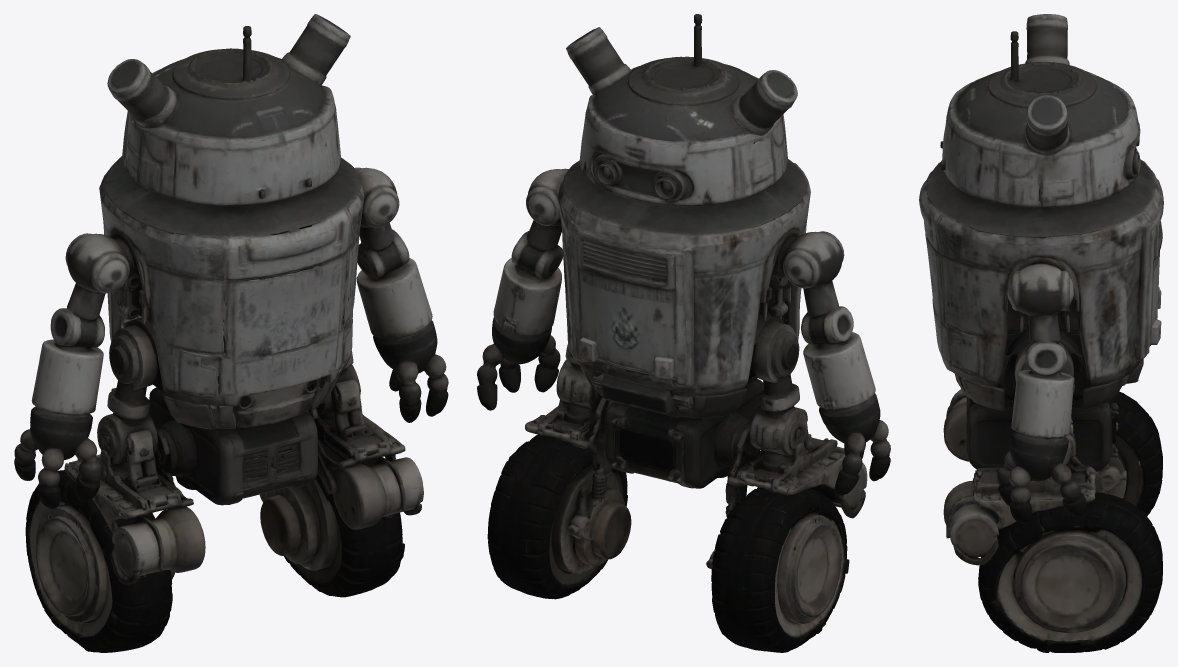
Rendered from 3d-metal-robot.opt.glb.
3 renders of one model, left to right at view 1: azimuth 30°, elevation 25°; view 2: azimuth 150°, elevation 25°; view 3: azimuth 270°, elevation 25°, orthographic. The views are drawn at different scales.
Parts seen in each view (by area): view 1: geometry_0; view 2: geometry_0; view 3: geometry_0.
Part boxes in pixels (<box>): geometry_0: <box>14,14,448,652</box>; geometry_0: <box>477,14,890,652</box>; geometry_0: <box>919,14,1163,652</box>.
Size of the model in its own units: 0.7047 by 1 by 0.3959.
Materials: 1 (1 with a texture image).
